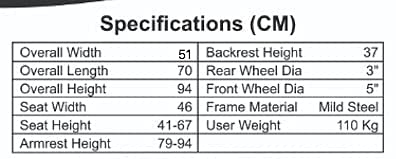(CM): (250, 15, 295, 35)
37: (364, 47, 378, 57)
41-67: (157, 120, 192, 130)
410: (338, 120, 358, 130)
70|: (178, 65, 192, 76)
79-94: (158, 138, 192, 149)
94: (178, 84, 192, 94)
Armrest: (20, 138, 67, 149)
Backrest: (207, 47, 259, 57)
Dia: (282, 65, 301, 76), (285, 83, 304, 94)
Frame: (207, 102, 245, 112)
Front: (207, 83, 238, 94)
Height: (263, 47, 302, 62), (52, 120, 91, 135), (68, 83, 106, 98), (72, 138, 110, 153)
Kg}: (363, 120, 383, 135)
Length: (68, 65, 108, 80)
Material: (250, 102, 297, 112)
Mild: (319, 102, 343, 112)
Overall: (20, 65, 62, 76), (20, 83, 62, 94), (20, 47, 62, 57)
Rear: (207, 65, 236, 76)
Seat: (20, 102, 48, 112), (20, 120, 48, 130)
Specifications: (100, 15, 243, 35)
Steel: (348, 102, 378, 112)
User: (207, 120, 235, 130)
Weight: (239, 120, 280, 130)
Wheel: (240, 65, 277, 76), (242, 83, 279, 94)
Width: (67, 47, 101, 58), (52, 102, 86, 112)
|: (195, 79, 201, 102), (195, 116, 201, 138)
